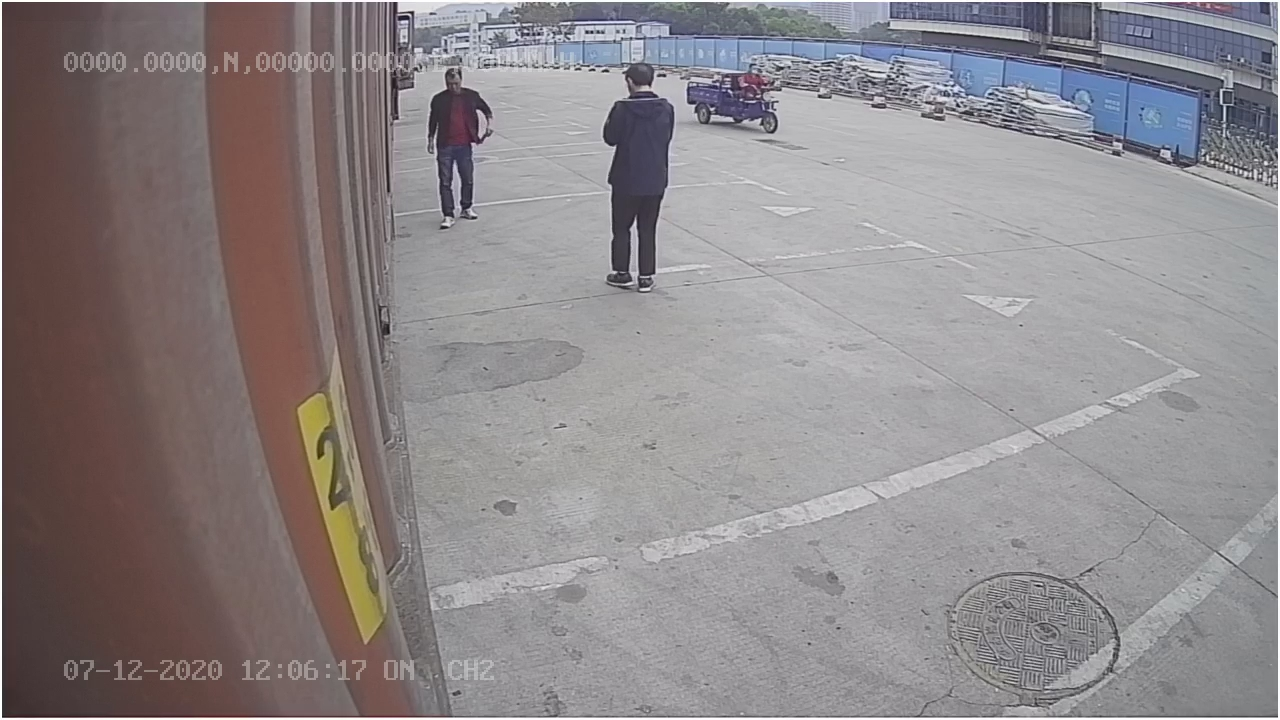person: (594, 62, 676, 298)
